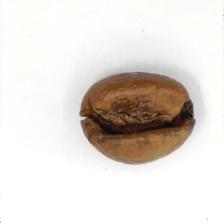NG: (90, 94, 193, 141)
